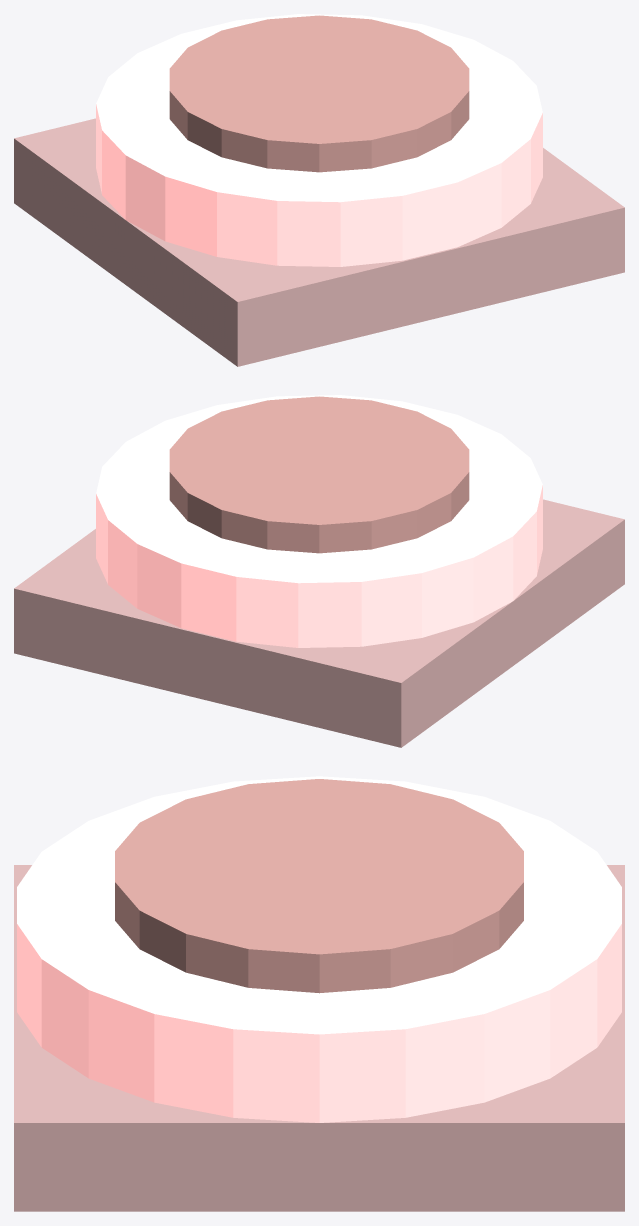
The model's file is Bounce_Thin.glb.
3 renders of one model, top to bottom at view 1: azimuth 30°, elevation 25°; view 2: azimuth 150°, elevation 25°; view 3: azimuth 270°, elevation 25°, orthographic. The views are drawn at different scales.
Visible parts, largest first — view 1: bounce_base.004, Bounce_Thin_body, bounce_fill_ring.004; view 2: bounce_base.004, Bounce_Thin_body, bounce_fill_ring.004; view 3: bounce_base.004, Bounce_Thin_body, bounce_fill_ring.004.
Part boxes in pixels (x1=…): bounce_base.004: x1=96, y1=14, x2=542, y2=266; Bounce_Thin_body: x1=14, y1=118, x2=624, y2=366; bounce_fill_ring.004: x1=169, y1=15, x2=469, y2=172; bounce_base.004: x1=96, y1=395, x2=542, y2=647; Bounce_Thin_body: x1=14, y1=499, x2=624, y2=747; bounce_fill_ring.004: x1=169, y1=396, x2=469, y2=553; bounce_base.004: x1=17, y1=776, x2=621, y2=1122; Bounce_Thin_body: x1=14, y1=865, x2=624, y2=1211; bounce_fill_ring.004: x1=115, y1=779, x2=523, y2=993.
Size of the model in its own units: 1 by 0.39 by 1.
